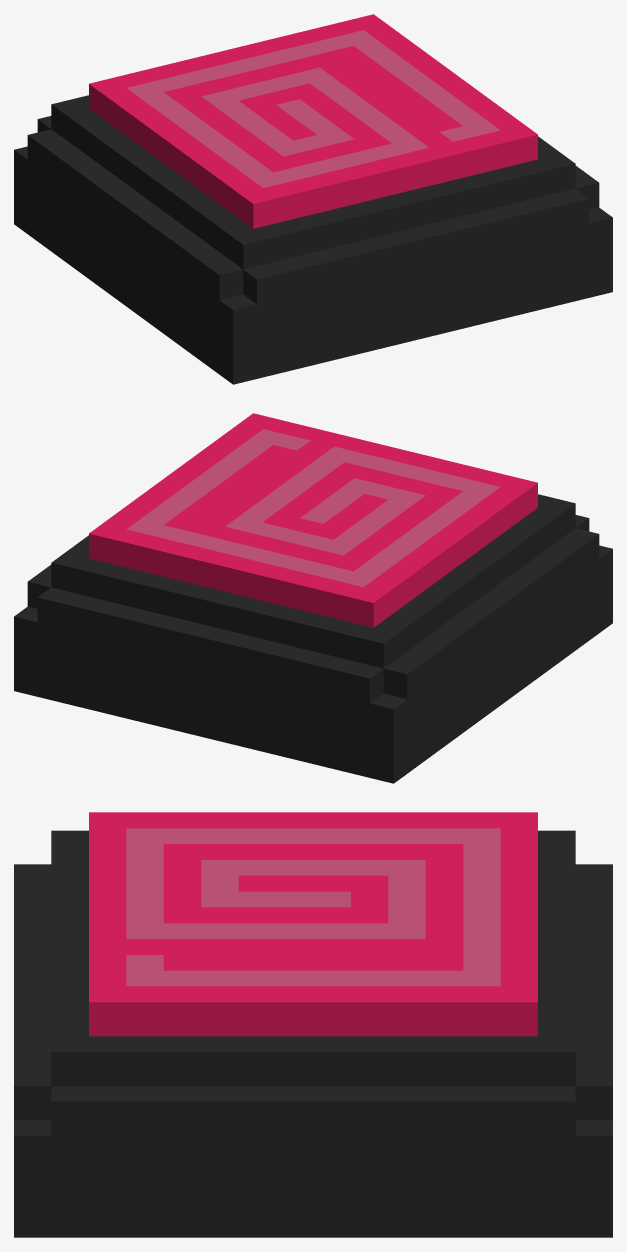
File: teleporter1.obj
3 views of the same model, one above another, from view 1: azimuth 30°, elevation 25°; view 2: azimuth 150°, elevation 25°; view 3: azimuth 270°, elevation 25° (orthographic). The views are drawn at different scales.
Size of the model in its own units: 16 by 6 by 16.
Materials: 1 (1 with a texture image).
